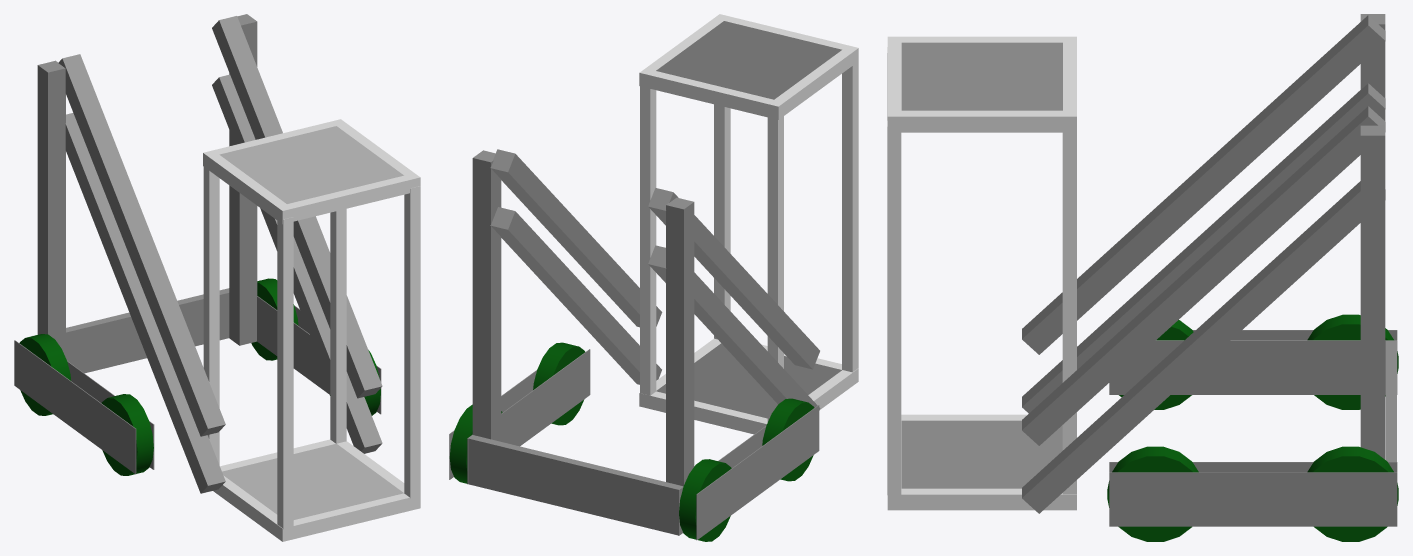
File: dbot.FBX
The picture shows the model from 3 angles, left to right: view 1: azimuth 30°, elevation 25°; view 2: azimuth 150°, elevation 25°; view 3: azimuth 270°, elevation 25°; orthographic projection. The views are drawn at different scales.
Parts seen in each view (by area): view 1: Box013, Box012, Box011, Box008, Box007, Box009, Box004, Box010, Box015, Box014, Box002, Box006 (+7 smaller); view 2: Box013, Box002, Box006, Box007, Box012, Box009, Box010, Box004, Box011, Box015, Box017, Box008 (+9 smaller); view 3: Box013, Box003, Box009, Box011, Box010, Box012, Box001, Box006, Box008, Box014, Box017, Cylinder001 (+7 smaller).
Part boxes in pixels (x1,y1,x2,y2): Box013: [203, 119, 420, 224]; Box012: [213, 439, 420, 541]; Box011: [58, 54, 225, 436]; Box008: [65, 113, 225, 493]; Box007: [37, 60, 65, 357]; Box009: [212, 16, 382, 398]; Box004: [14, 340, 136, 474]; Box010: [212, 74, 382, 453]; Box015: [277, 217, 293, 529]; Box014: [404, 186, 420, 498]; Box002: [66, 288, 229, 373]; Box006: [229, 14, 257, 345]; Box013: [639, 14, 858, 119]; Box002: [468, 435, 683, 535]; Box006: [472, 150, 501, 441]; Box007: [666, 197, 694, 486]; Box012: [639, 338, 858, 434]; Box009: [490, 149, 662, 327]; Box010: [490, 207, 661, 384]; Box004: [696, 405, 819, 540]; Box011: [648, 188, 819, 369]; Box015: [842, 61, 858, 372]; Box017: [640, 86, 656, 395]; Box008: [648, 245, 820, 410]; Box013: [887, 36, 1076, 132]; Box003: [1109, 472, 1397, 526]; Box009: [1022, 106, 1385, 445]; Box011: [1022, 15, 1385, 354]; Box010: [1022, 181, 1385, 513]; Box012: [887, 414, 1076, 510]; Box001: [1109, 340, 1397, 394]; Box006: [1360, 125, 1385, 459]; Box008: [1022, 83, 1385, 413]; Box014: [887, 121, 901, 494]; Box017: [1062, 132, 1076, 494]; Cylinder001: [1107, 446, 1198, 541].
Size of the model in its own units: 0.3571 by 0.473 by 0.5409.
